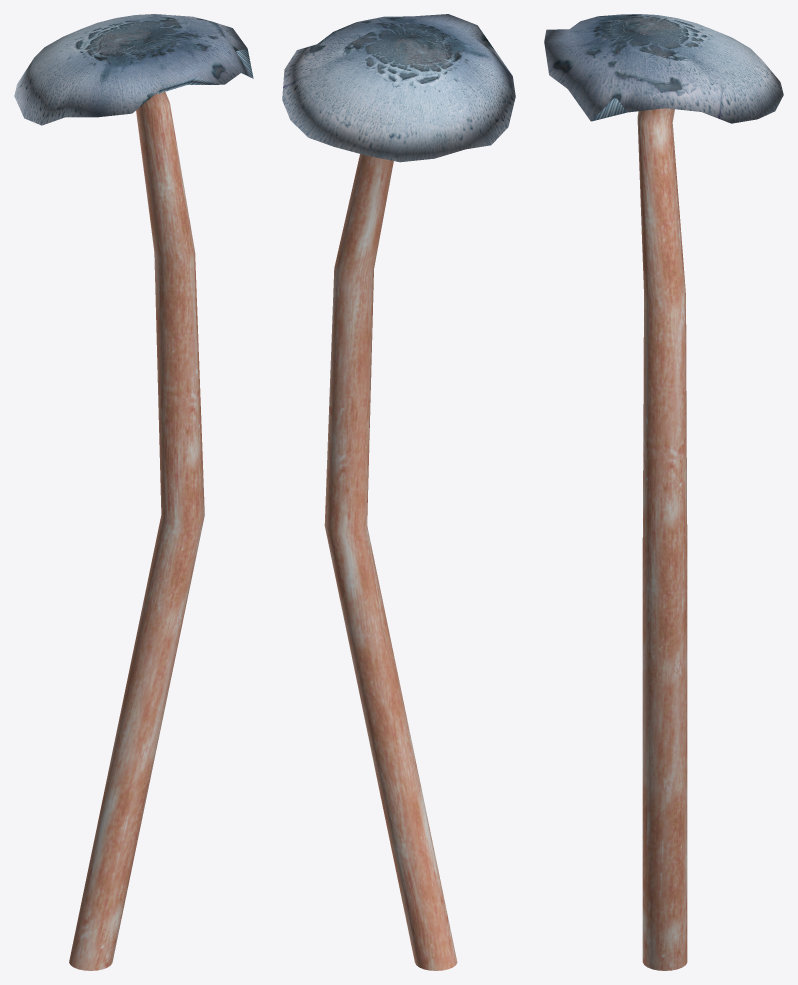
Rendered from mushy7_LOD.FBX.
3 views of the same model, side by side, from view 1: azimuth 30°, elevation 25°; view 2: azimuth 150°, elevation 25°; view 3: azimuth 270°, elevation 25° (orthographic). The views are drawn at different scales.
Visible parts, largest first — view 1: mushy7_uv; view 2: mushy7_uv; view 3: mushy7_uv.
Part boxes in pixels (x1,y1,x2,y2): mushy7_uv: (14,14,253,970); mushy7_uv: (282,14,515,970); mushy7_uv: (544,14,783,970).
Size of the model in its own units: 104 by 103 by 452.
